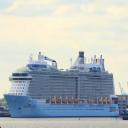cruises: (4, 50, 121, 120)
